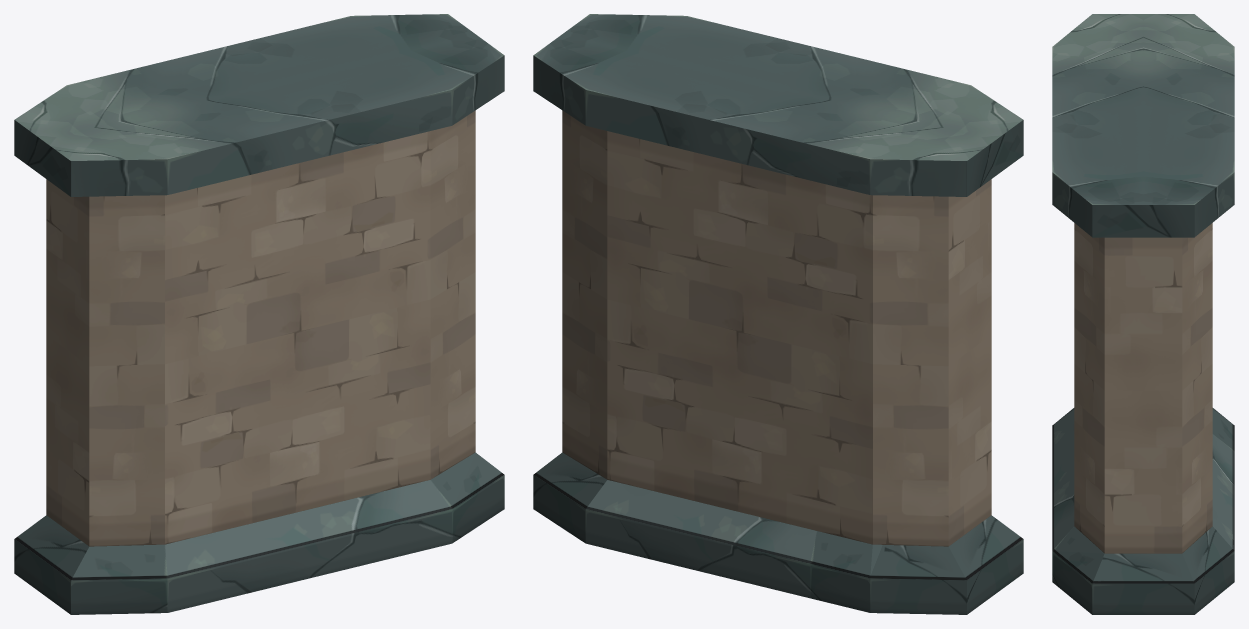
The model's file is Dg_01_pillar_09.FBX.
3 renders of one model, left to right at view 1: azimuth 30°, elevation 25°; view 2: azimuth 150°, elevation 25°; view 3: azimuth 270°, elevation 25°, orthographic. The views are drawn at different scales.
Parts seen in each view (by area): view 1: Dg_01_pillar_09; view 2: Dg_01_pillar_09; view 3: Dg_01_pillar_09.
Part boxes in pixels (bbox=[...]): Dg_01_pillar_09: bbox=[14, 14, 504, 614]; Dg_01_pillar_09: bbox=[533, 14, 1023, 614]; Dg_01_pillar_09: bbox=[1052, 14, 1234, 614].
Size of the model in its own units: 5 by 5 by 2.02.
